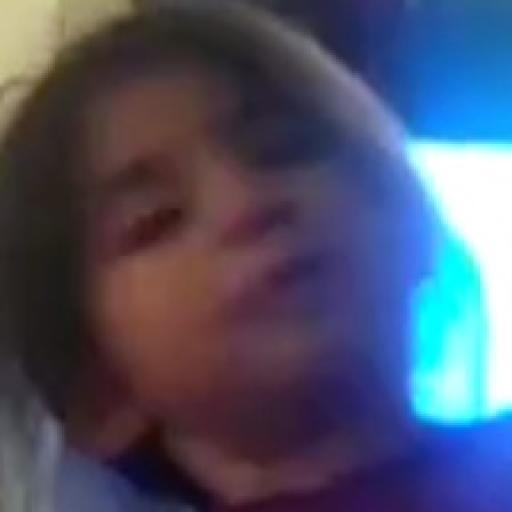Autism: (38, 67, 468, 465)
